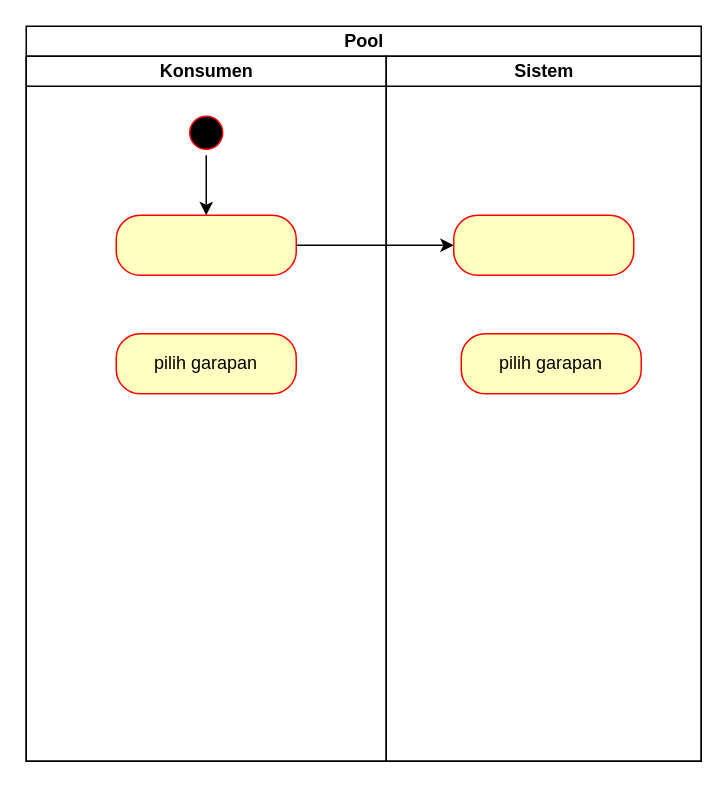
Image size: 728x788. Some labels were removed from this diagram. The box of each missing label's shape, as (x1, y1, x2, y2) in pixels:
cari garapan: (115, 214, 296, 275)
menampilkan list garapn: (452, 214, 634, 275)
